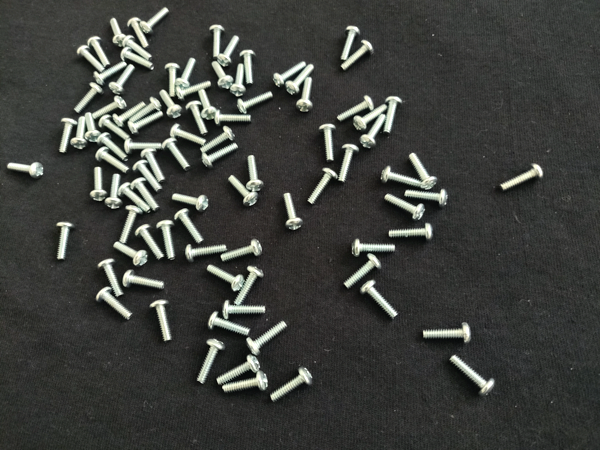shortscrew: (450, 355, 497, 397), (247, 321, 288, 359), (270, 367, 313, 403), (361, 280, 399, 320), (216, 356, 261, 387), (344, 254, 383, 289), (197, 339, 226, 385), (233, 266, 264, 307), (307, 167, 338, 207), (501, 163, 545, 190), (97, 287, 132, 320), (385, 194, 426, 222), (424, 322, 473, 345), (174, 209, 205, 245), (135, 224, 165, 261), (410, 153, 438, 191), (207, 264, 245, 292), (201, 142, 239, 170), (341, 40, 375, 71), (208, 312, 250, 337), (223, 371, 268, 394), (381, 165, 424, 189), (336, 96, 375, 122), (353, 103, 389, 131), (229, 175, 259, 208), (285, 65, 315, 98), (162, 138, 192, 171), (118, 183, 151, 213), (95, 146, 130, 174), (98, 259, 123, 298), (360, 114, 387, 150), (200, 126, 236, 153), (222, 240, 262, 264), (75, 82, 103, 115), (272, 62, 306, 89), (131, 177, 158, 211), (150, 299, 171, 342), (389, 223, 434, 243), (98, 132, 128, 162), (119, 206, 143, 243), (352, 238, 396, 258), (337, 145, 359, 185), (114, 242, 149, 267), (129, 111, 164, 136), (132, 161, 161, 191), (113, 102, 146, 128), (238, 92, 273, 116), (93, 62, 128, 86), (99, 115, 131, 141), (405, 189, 448, 208), (223, 300, 266, 319), (121, 47, 155, 71), (170, 124, 207, 146), (132, 97, 162, 124), (109, 64, 134, 96), (156, 221, 176, 261), (340, 26, 361, 64), (142, 148, 164, 184), (140, 7, 169, 34), (92, 96, 126, 119), (55, 223, 75, 262), (122, 36, 153, 61), (186, 101, 208, 136), (123, 270, 163, 289), (186, 245, 227, 263), (284, 193, 303, 231), (318, 124, 337, 162), (384, 96, 403, 134), (78, 45, 105, 71), (173, 193, 209, 212), (59, 118, 78, 154), (212, 61, 234, 92), (217, 36, 239, 67), (246, 156, 264, 193), (127, 17, 148, 48), (88, 36, 109, 67), (296, 77, 314, 113), (124, 138, 162, 155), (160, 90, 183, 118), (89, 167, 107, 202), (240, 50, 257, 86), (214, 110, 252, 126), (177, 58, 196, 89), (105, 175, 122, 209), (8, 163, 43, 179), (210, 24, 225, 60), (199, 89, 216, 120), (84, 112, 101, 143), (165, 63, 180, 98), (230, 64, 245, 97), (71, 117, 86, 150), (110, 18, 127, 45)
